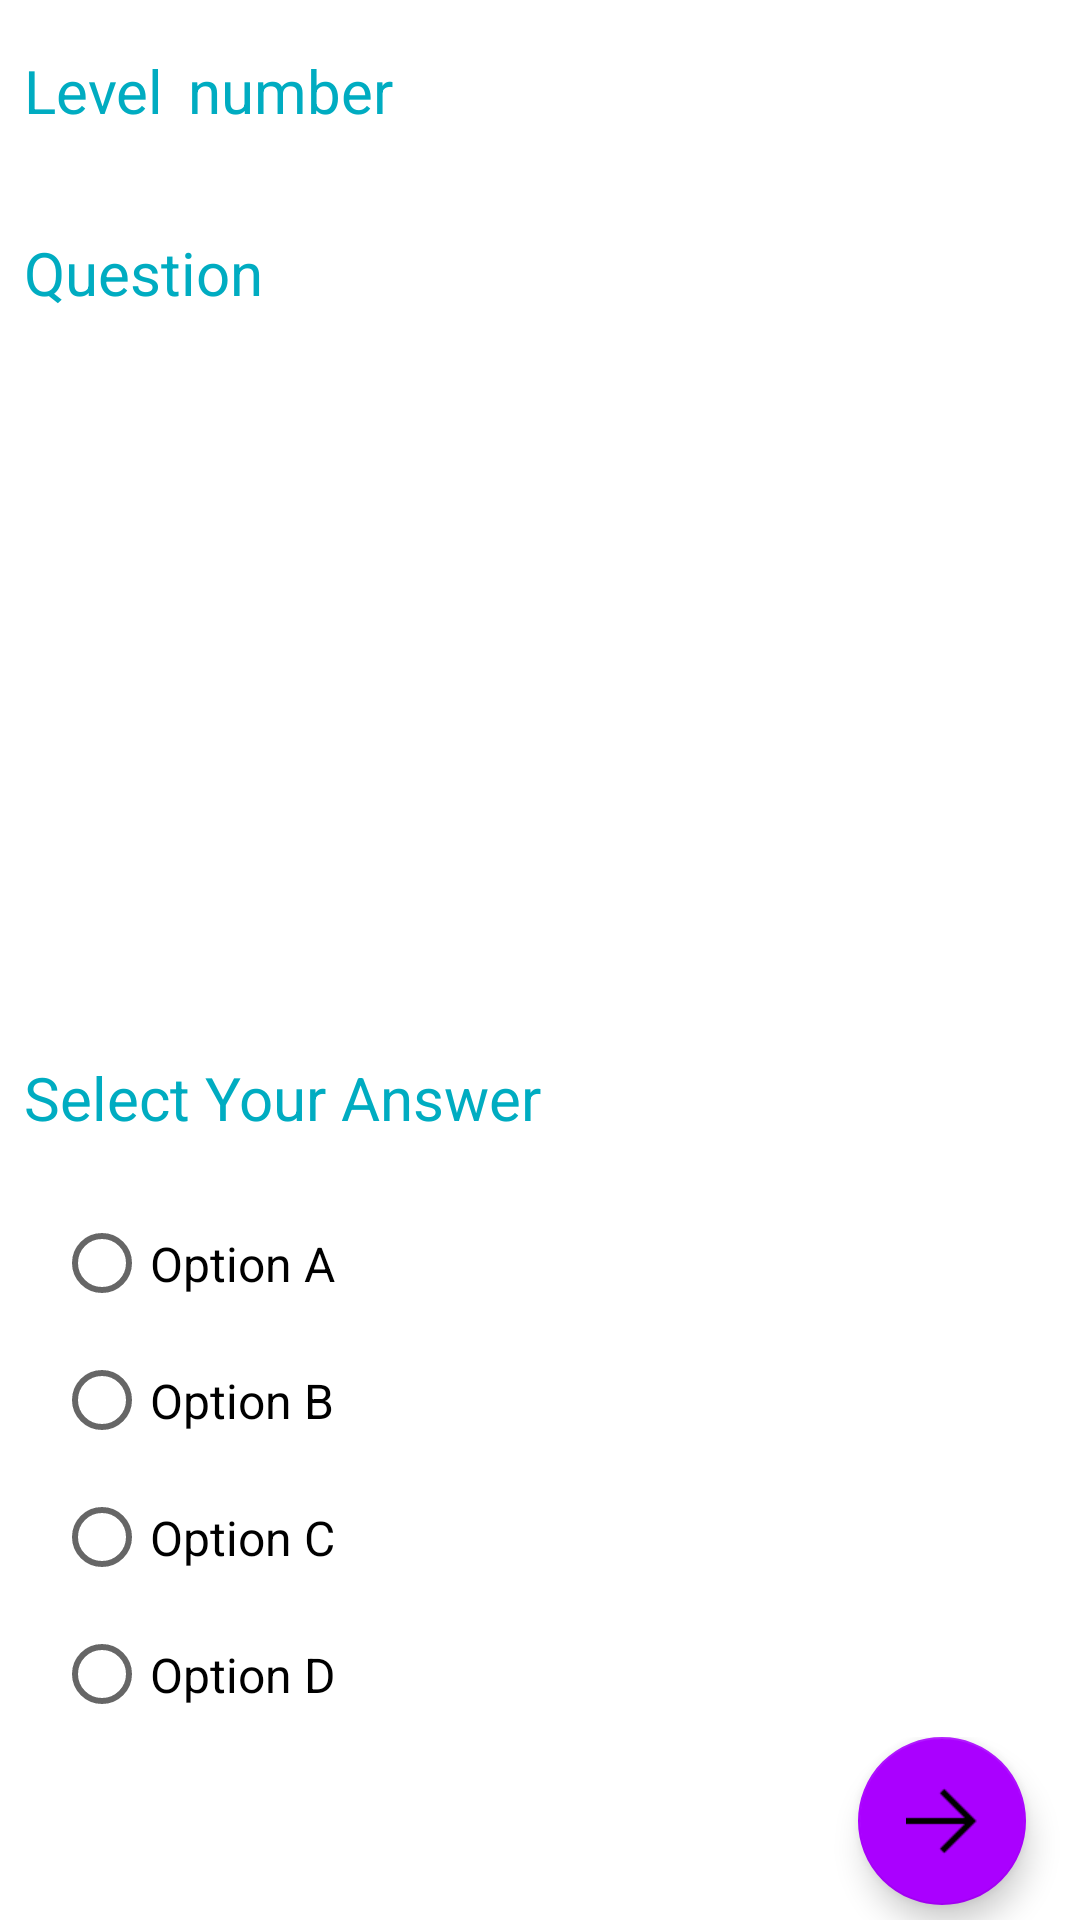

Icon click points for this 1080px×1920px phone screenshot, format point (x, y):
right: point (942, 1821)
